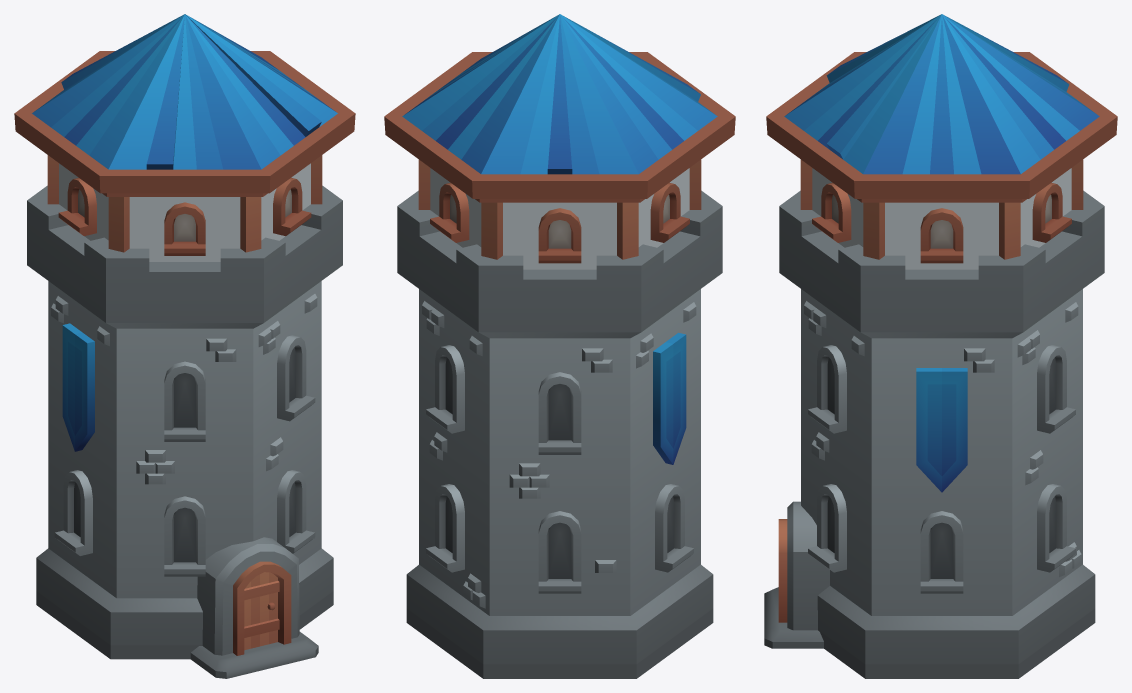
File: tower_a_blue.glb
3 renders of one model, left to right at view 1: azimuth 30°, elevation 25°; view 2: azimuth 150°, elevation 25°; view 3: azimuth 270°, elevation 25°, orthographic. The views are drawn at different scales.
Parts seen in each view (by area): view 1: tower_a_blue; view 2: tower_a_blue; view 3: tower_a_blue.
Part boxes in pixels (x1,y1,x2,y2): tower_a_blue: (14,14,355,678); tower_a_blue: (384,14,735,678); tower_a_blue: (764,14,1117,678).
Bounding box in the file's own units: 0.4966 × 1.1 × 0.5767.
Materials: 1 (1 with a texture image).
